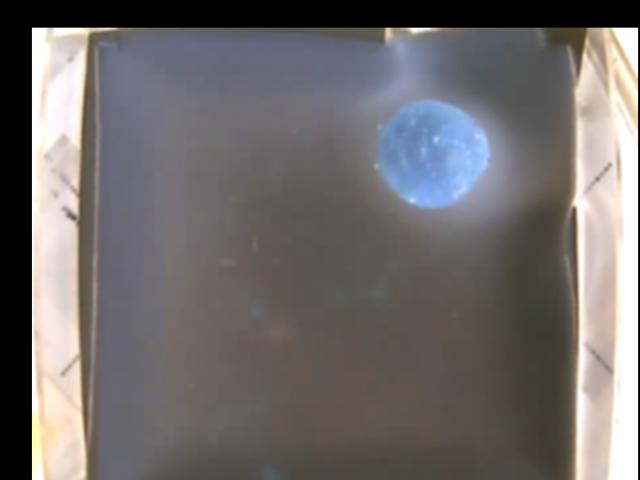Potato: (371, 102, 489, 204)
